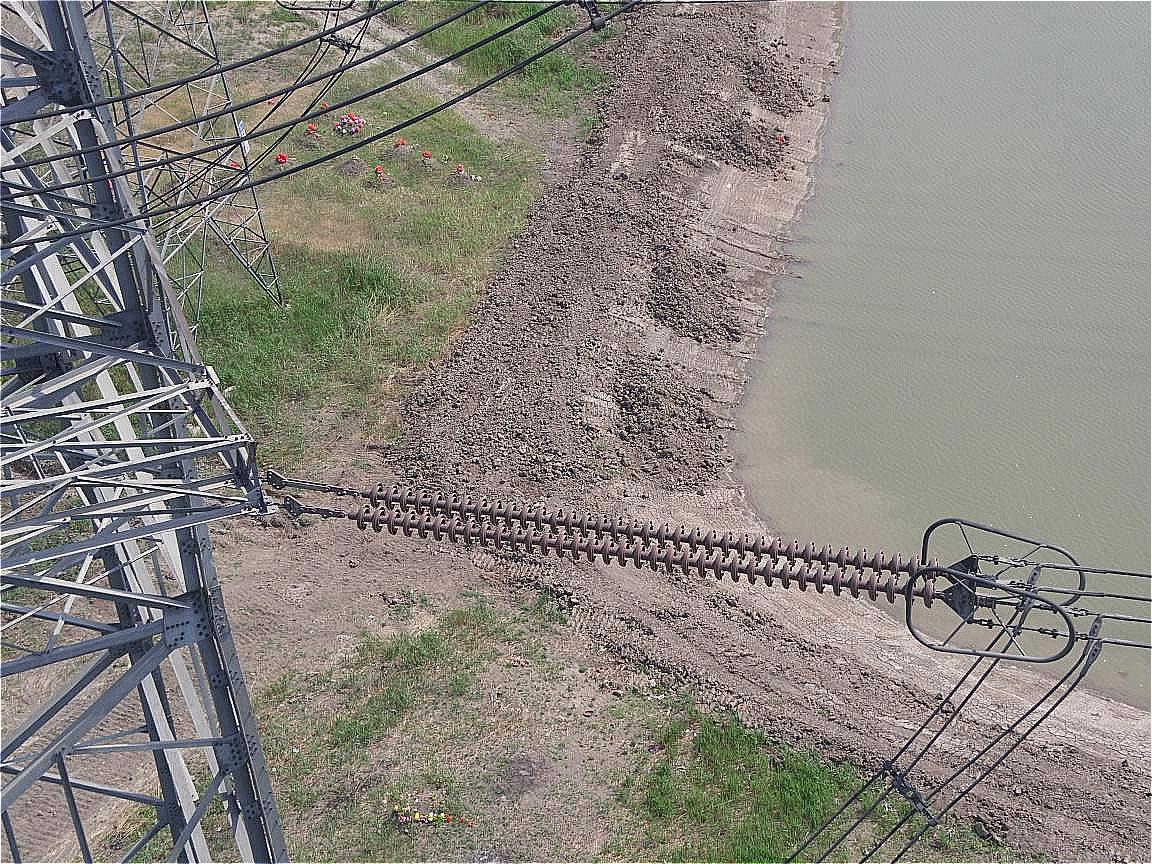insultor1: (309, 476, 979, 616)
